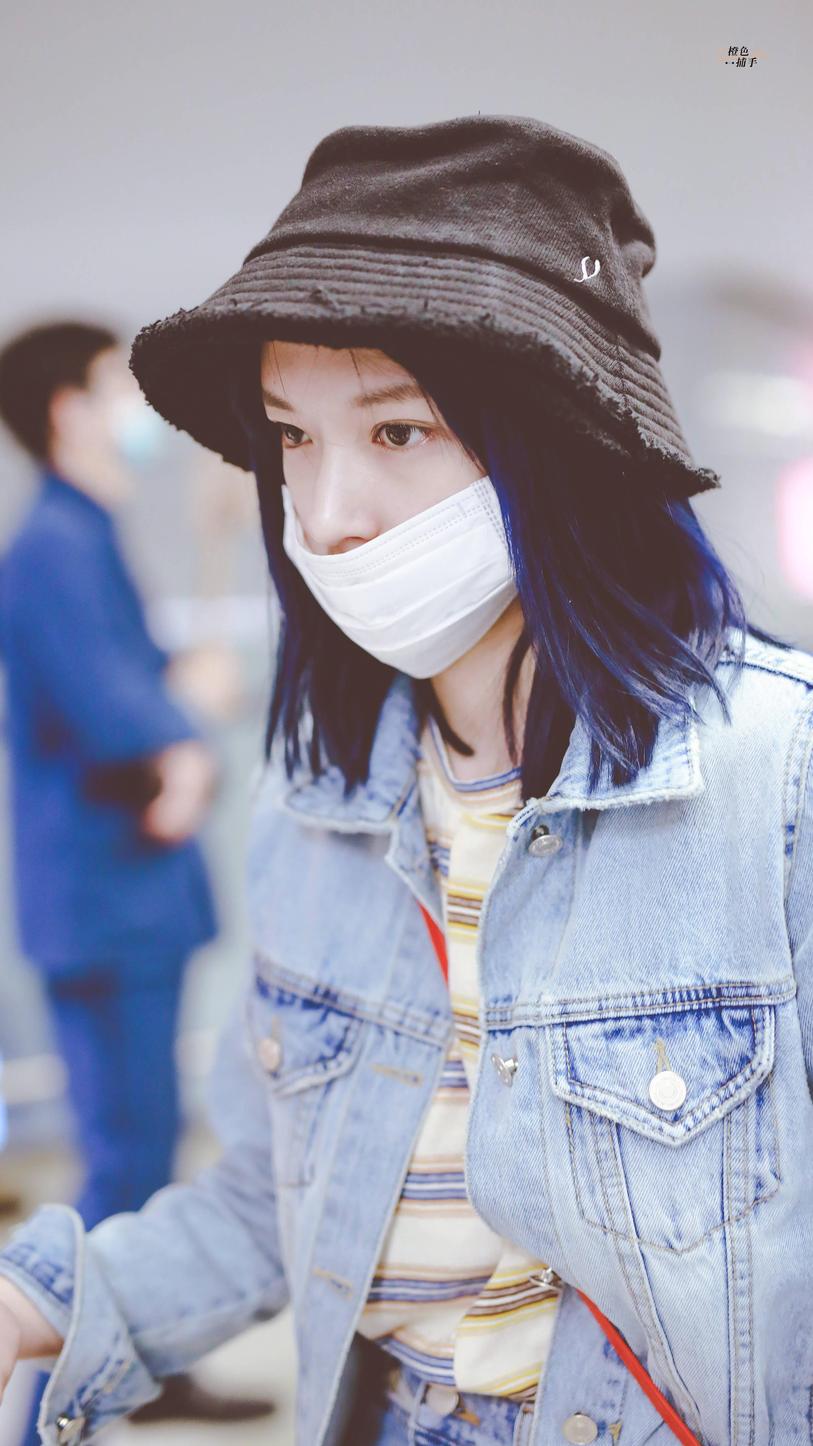OK: (102, 354, 168, 472)
WRONG: (258, 356, 515, 677)
